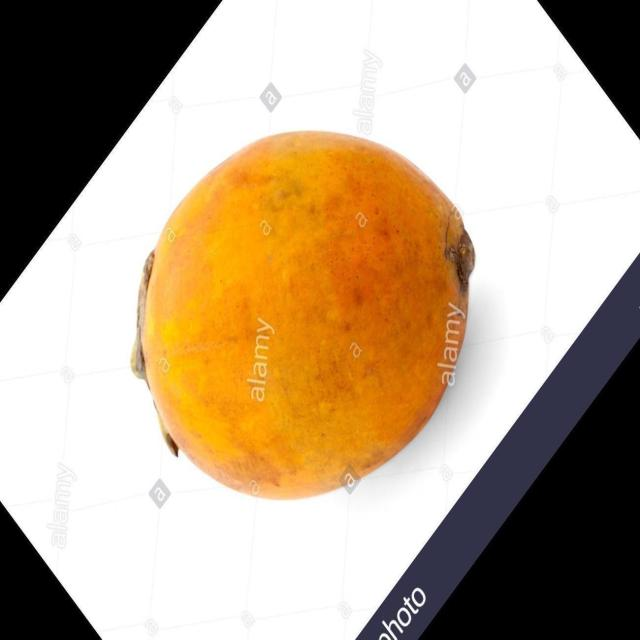good: (137, 130, 476, 503)
